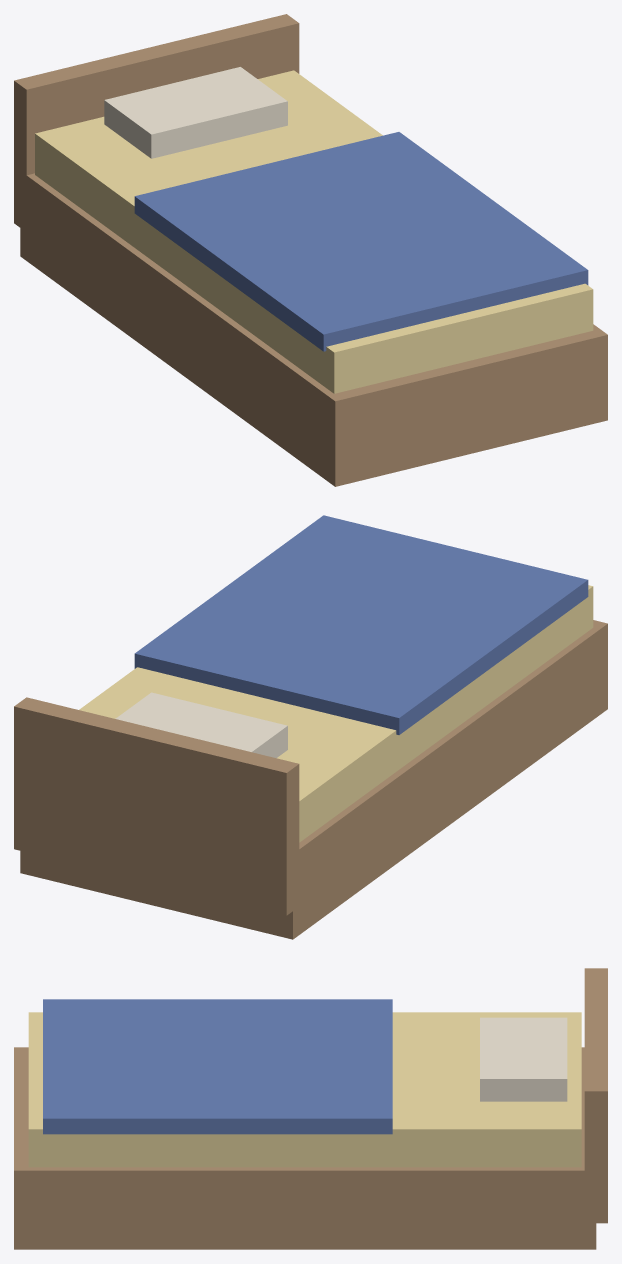
Rendered from bed_simple.glb.
The picture shows the model from 3 angles, top to bottom: view 1: azimuth 30°, elevation 25°; view 2: azimuth 150°, elevation 25°; view 3: azimuth 270°, elevation 25°; orthographic projection. The views are drawn at different scales.
Parts seen in each view (by area): view 1: bed_simple; view 2: bed_simple; view 3: bed_simple.
Part boxes in pixels (box(x1,y1,x2,y2)): bed_simple: box(14, 14, 607, 486); bed_simple: box(14, 515, 607, 939); bed_simple: box(14, 968, 607, 1249).
Bounding box in the file's own units: 0.9999 × 0.6 × 2.04.
